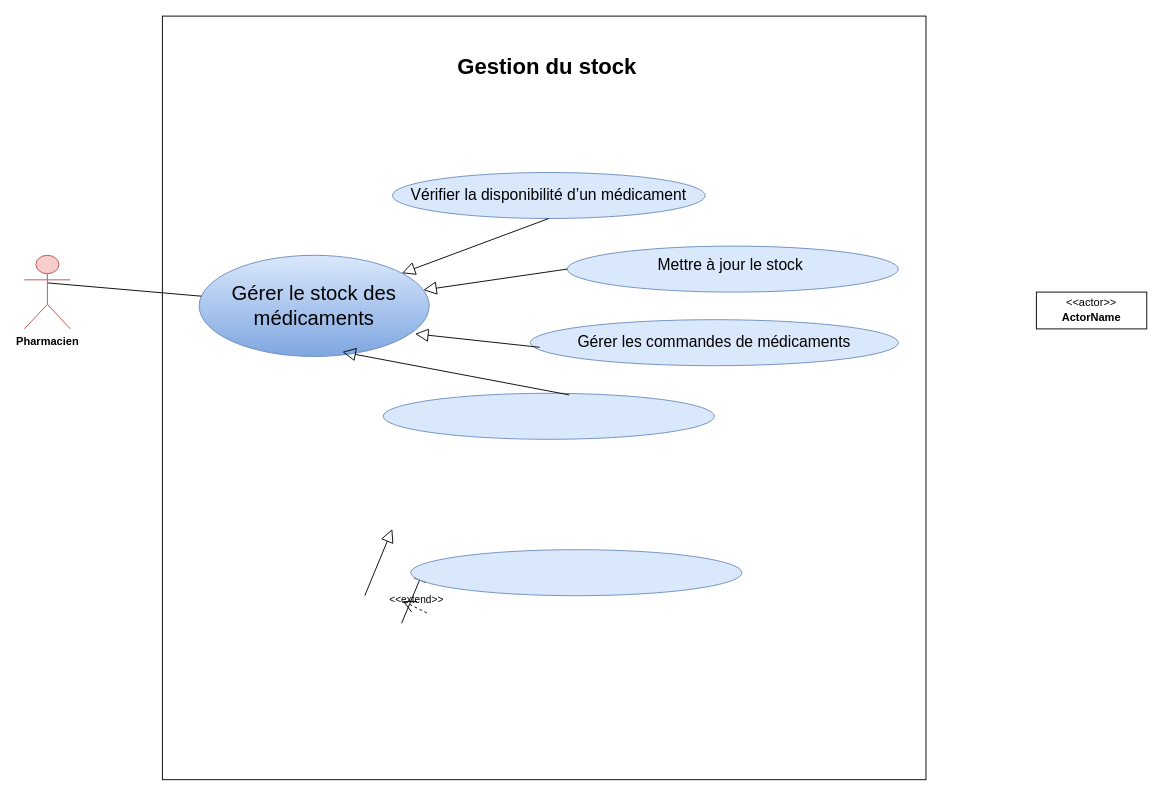
Some shapes in this 1163 by 803 pixel diagram are drawn without their labels. The shapes that lost their labels are listed below. From the top down, each one's centre as x and y in pixels, then its label:
At (548,415): "Alerter un stock faible".
At (576,572): "Envoyer une alerte de rupture de stock".
